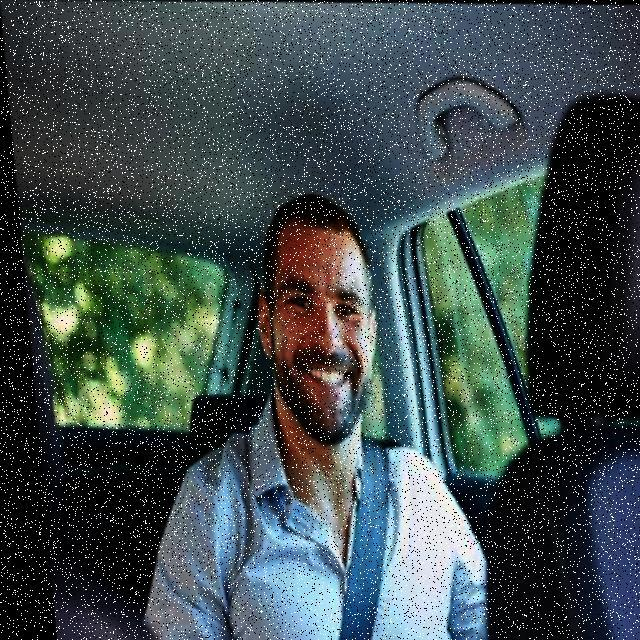seatbelt: (127, 373, 470, 640)
